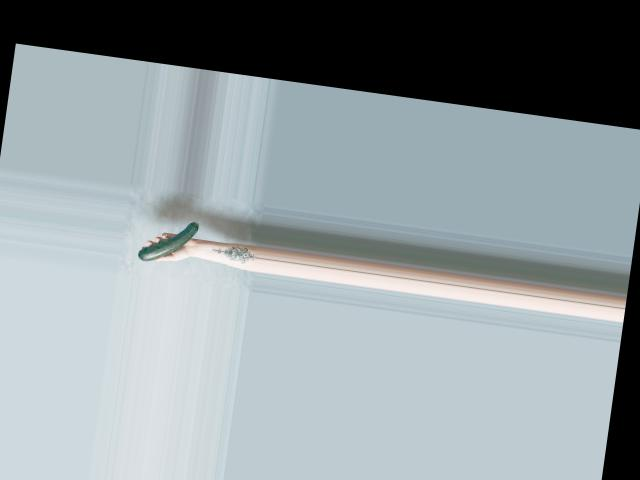cucumber: (137, 214, 198, 266)
